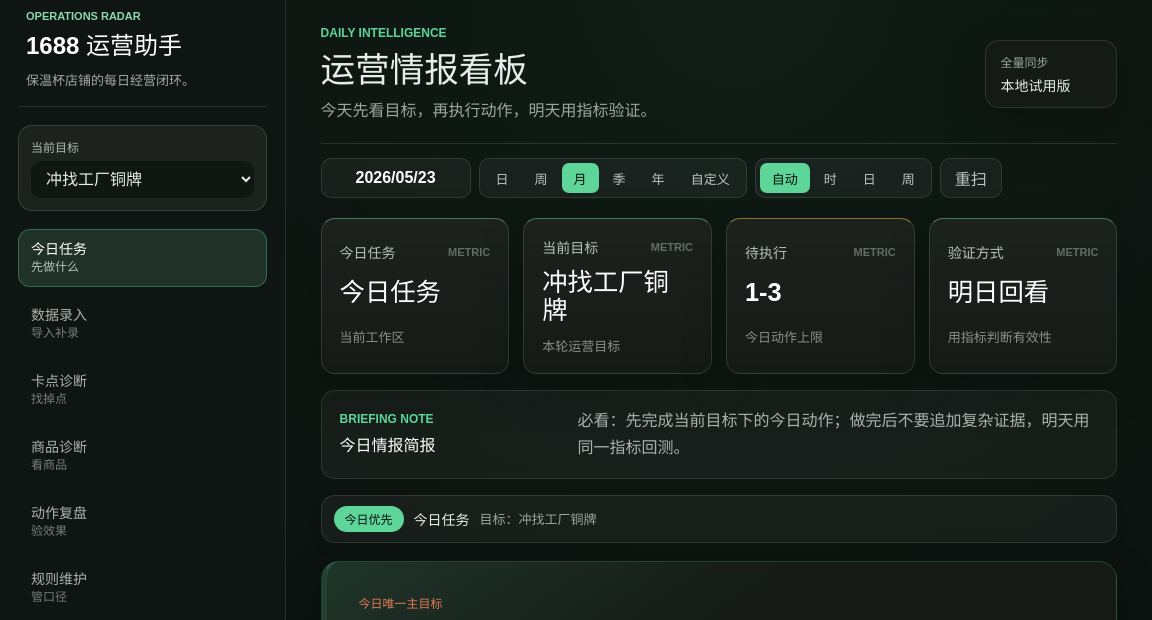
1688 operations assistant UI › shows V4 daily operating facts and calculated ratios
Click the button "数据录入 导入补录": (142,324) [18,295,267,353]
(page scrolled)
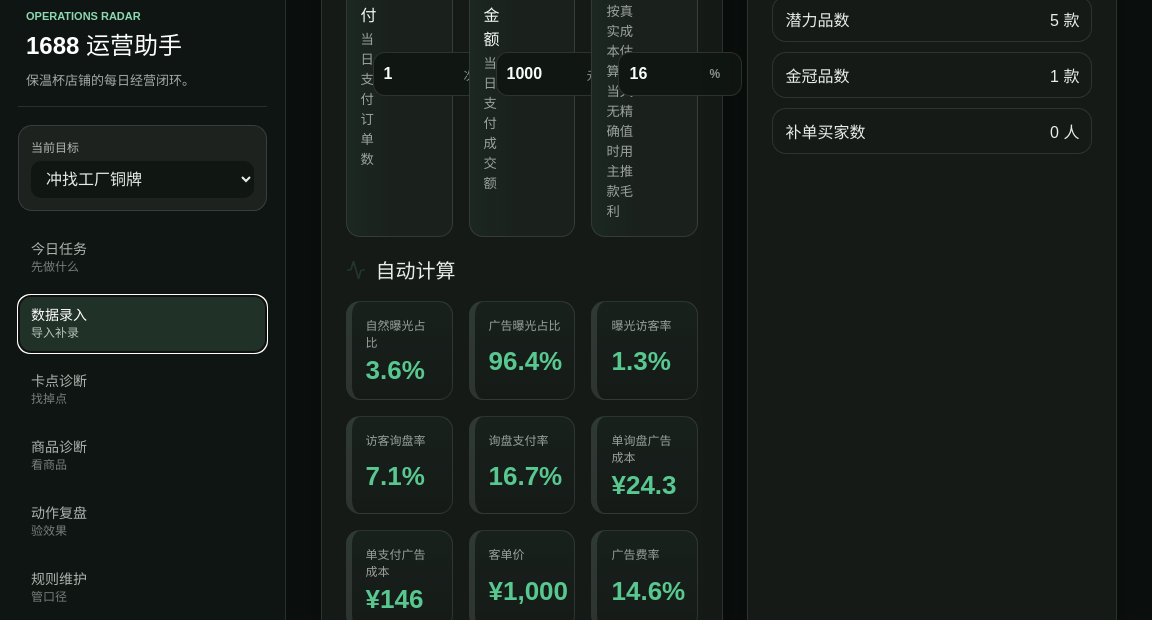
Now the number field named "支付金额" is shown, box [496,53,586,95]
Now the number field named "毛利率" is shown, box [620,53,710,95]
Now the text "广告费率" is shown, box [612,548,660,562]
